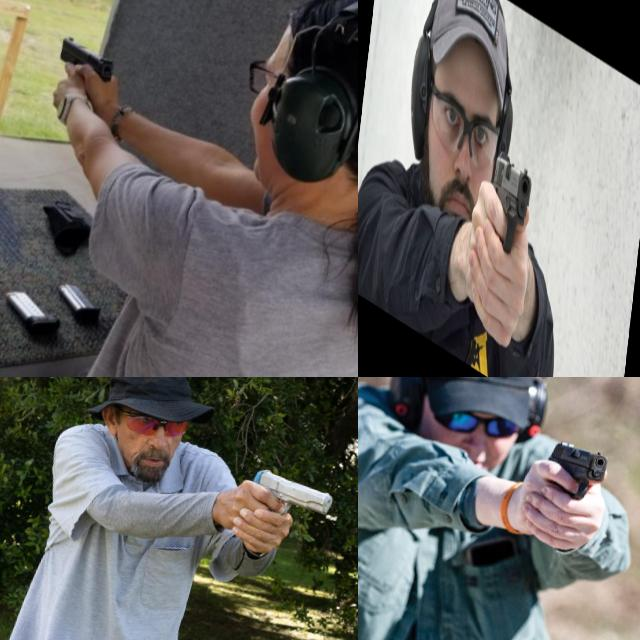handgun: (243, 462, 341, 536), (483, 144, 535, 274), (532, 434, 614, 514), (48, 30, 122, 104)
